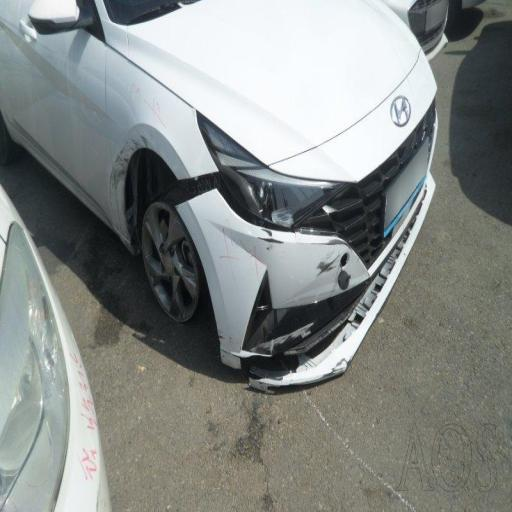broken: (186, 130, 370, 385)
scratch: (296, 218, 368, 305)
